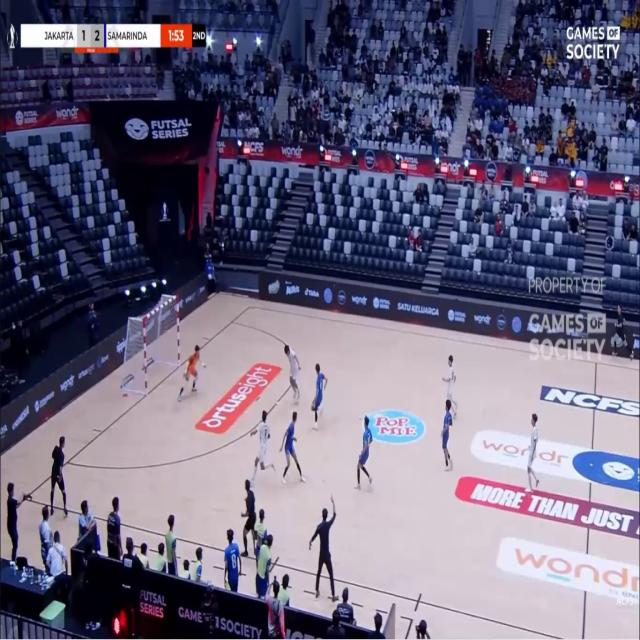keeper: (185, 345, 199, 390)
referee: (310, 496, 337, 601), (51, 436, 67, 516), (611, 305, 633, 359)
